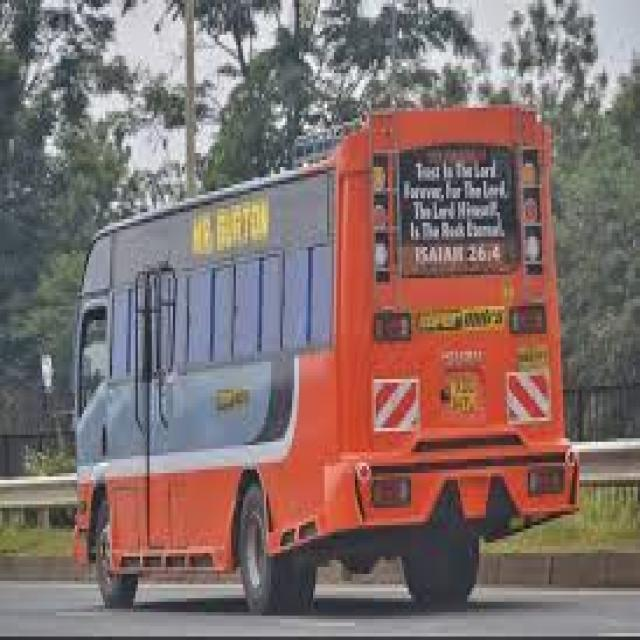bus: (54, 52, 606, 630)
